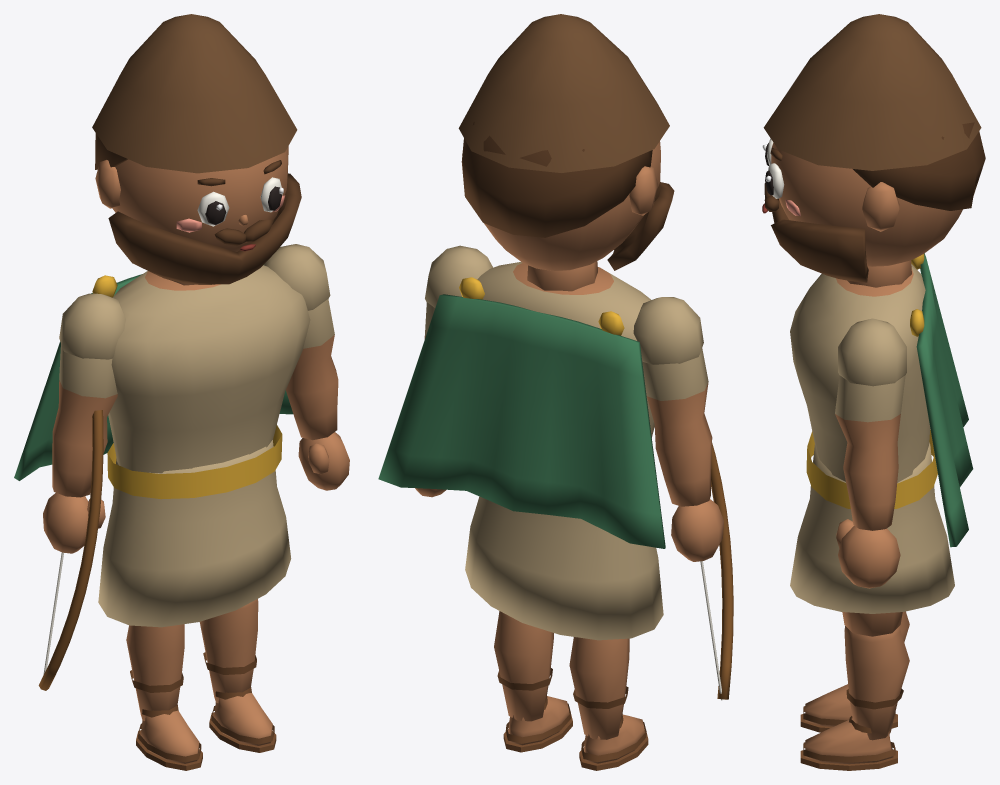
The model's file is odysseus.glb.
3 renders of one model, left to right at view 1: azimuth 30°, elevation 25°; view 2: azimuth 150°, elevation 25°; view 3: azimuth 270°, elevation 25°, orthographic. The views are drawn at different scales.
Visible parts, largest first — view 1: rumpf, huefte, kopfschmuck, armL, kopf, armR, bart, knieL, knieR, itemL, umhang, augeL (+1 smaller); view 2: umhang, kopfschmuck, huefte, armL, haare, kopf, knieL, knieR, rumpf, itemL, armR, bart; view 3: kopfschmuck, rumpf, armR, huefte, kopf, knieR, umhang, haare, bart, knieL, beinR, augeR.
Part boxes in pixels (left/top/right/bottom): rumpf: left=107, top=265, right=310, bottom=499; huefte: left=98, top=440, right=291, bottom=627; kopfschmuck: left=92, top=14, right=297, bottom=173; armL: left=43, top=293, right=125, bottom=553; kopf: left=95, top=146, right=288, bottom=285; armR: left=264, top=244, right=349, bottom=490; bart: left=108, top=173, right=301, bottom=284; knieL: left=126, top=624, right=202, bottom=770; knieR: left=199, top=599, right=276, bottom=752; itemL: left=38, top=410, right=103, bottom=690; umhang: left=14, top=274, right=293, bottom=480; augeL: left=197, top=191, right=229, bottom=226; umhang: left=378, top=277, right=665, bottom=548; kopfschmuck: left=458, top=14, right=669, bottom=172; huefte: left=465, top=496, right=663, bottom=640; armL: left=633, top=297, right=723, bottom=561; haare: left=461, top=122, right=652, bottom=237; kopf: left=462, top=141, right=660, bottom=291; knieL: left=569, top=637, right=648, bottom=770; knieR: left=494, top=611, right=572, bottom=752; rumpf: left=477, top=262, right=654, bottom=437; itemL: left=700, top=443, right=733, bottom=700; armR: left=415, top=245, right=492, bottom=497; bart: left=607, top=182, right=674, bottom=270; kopfschmuck: left=763, top=14, right=981, bottom=170; rumpf: left=790, top=264, right=937, bottom=508; armR: left=835, top=318, right=906, bottom=588; huefte: left=790, top=442, right=954, bottom=613; kopf: left=771, top=142, right=962, bottom=287; knieR: left=800, top=626, right=909, bottom=770; umhang: left=910, top=253, right=973, bottom=547; haare: left=853, top=122, right=985, bottom=210; bart: left=764, top=183, right=868, bottom=282; knieL: left=800, top=611, right=909, bottom=732; beinR: left=842, top=612, right=902, bottom=636; augeR: left=765, top=163, right=784, bottom=198.
Size of the model in its own units: 1.08 by 2.43 by 0.6768.
